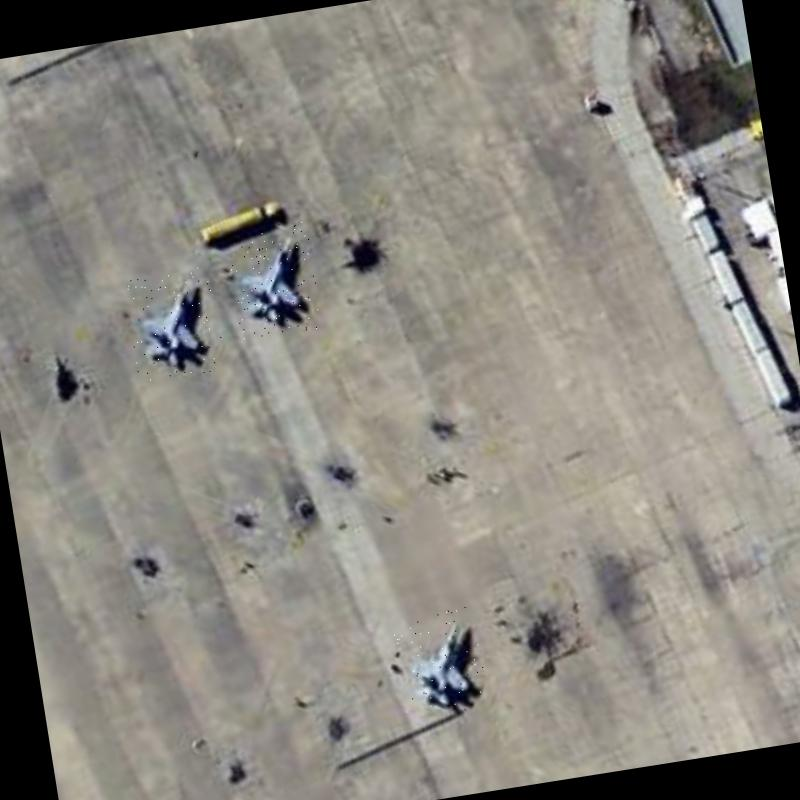A16: (123, 265, 227, 383), (224, 220, 322, 340), (391, 605, 489, 719)
